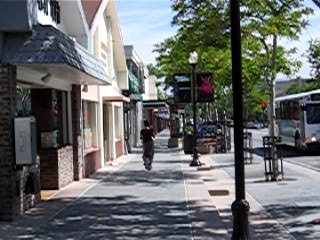person: (140, 120, 157, 171), (139, 120, 156, 171), (141, 120, 158, 171), (140, 119, 157, 170), (140, 121, 157, 172)
target_negative: (90, 57, 184, 132), (15, 141, 119, 205), (118, 212, 296, 231), (281, 68, 307, 179), (306, 194, 319, 215)
